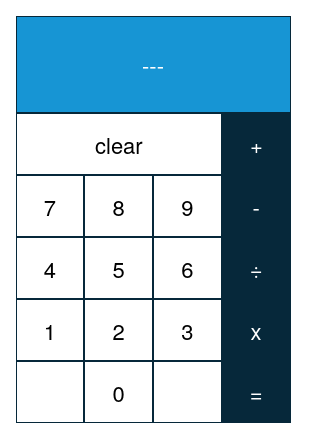
it: Calculator › adds two numbers and displays correct sum
Click the button "2".
click(119, 330)  # box [84,299,153,361]
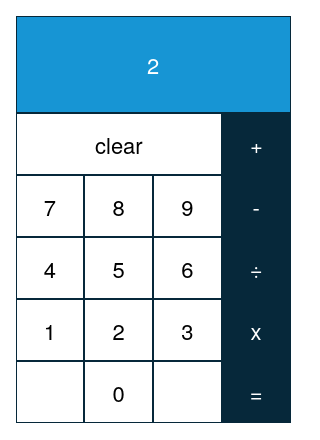
Click the button "+".
click(256, 144)  # box [222,113,290,175]
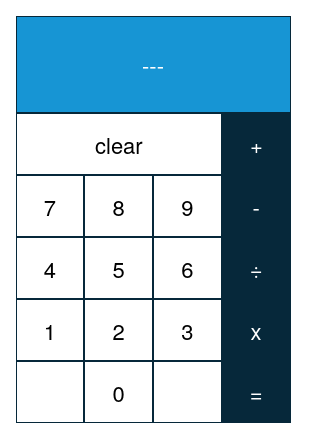
Click the button "9".
click(187, 206)  # box [153,175,222,237]
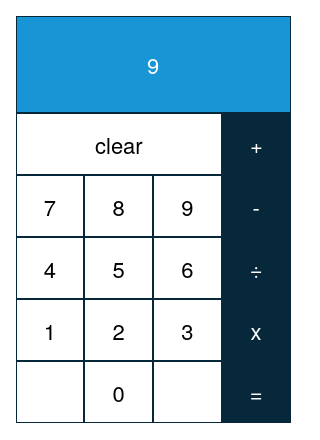
Click the button "=".
click(256, 392)  # box [222,361,291,423]
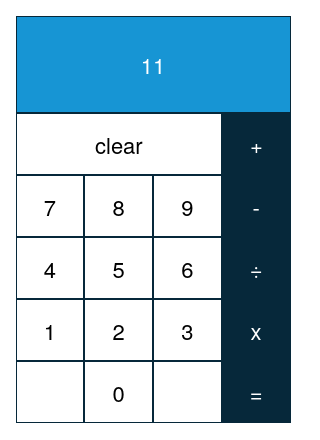
Result: the text with test id "entry" reads "11" at [141,49,165,80]
